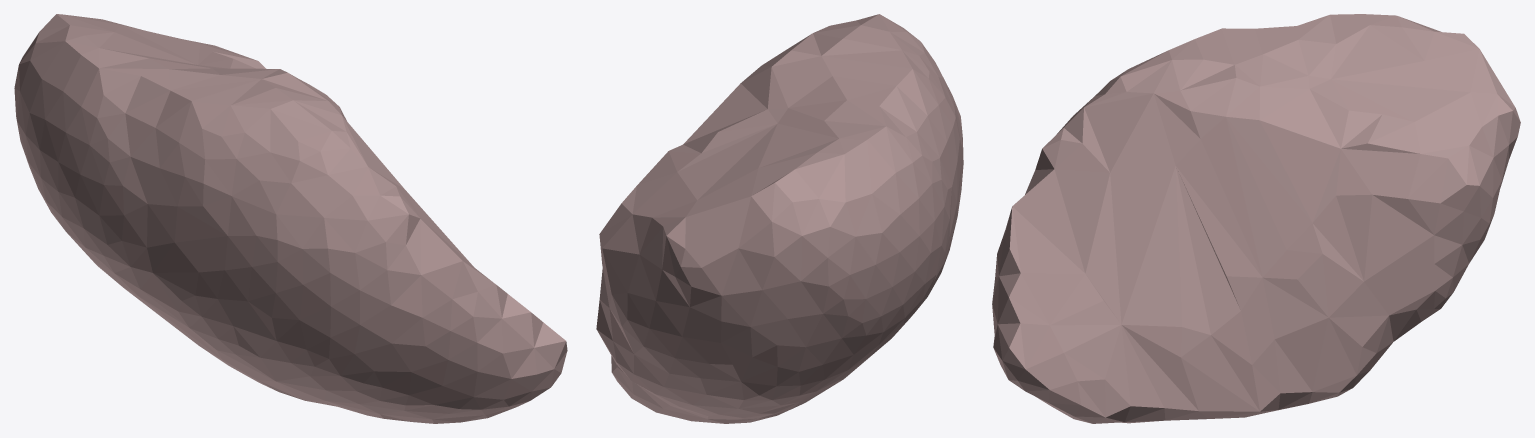
The model's file is Model_10473_LH__Dorsal_cochlear_nucleus_(DC).obj.
3 views of the same model, side by side, from view 1: azimuth 30°, elevation 25°; view 2: azimuth 150°, elevation 25°; view 3: azimuth 270°, elevation 25° (orthographic). The views are drawn at different scales.
Size of the model in its own units: 0.9925 by 0.9119 by 1.43.
